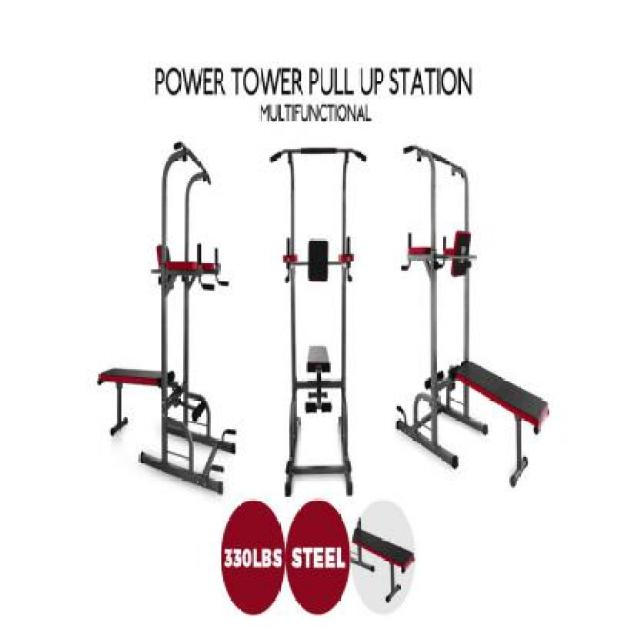chinning dipping: (269, 145, 368, 497), (396, 143, 490, 471), (162, 137, 236, 494)
